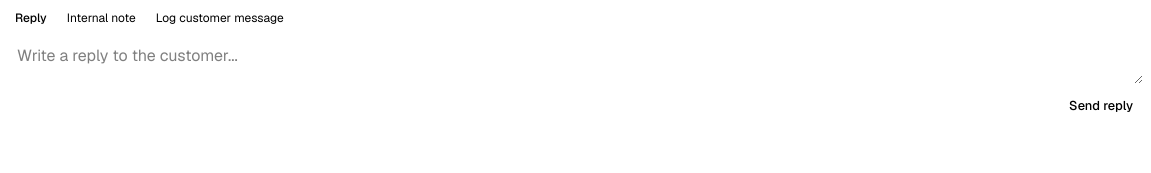
Scenario: MessageComposer › rejects empty input without sending
Click the button "Send reply".
click(1101, 106)  # box [1059,92,1143,120]
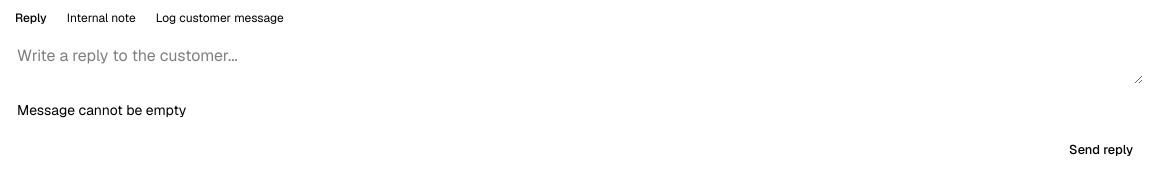
Check: the message reads "Message cannot be empty", box [17,101,186,119]
